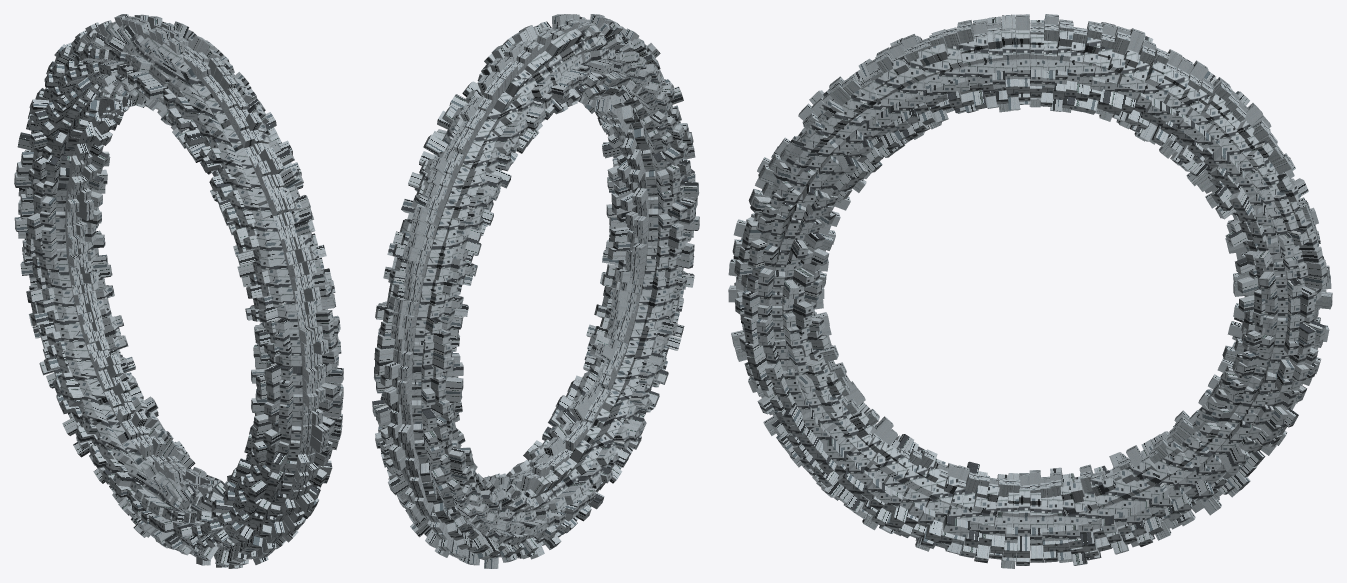
Rendered from cityring.glb.
3 views of the same model, side by side, from view 1: azimuth 30°, elevation 25°; view 2: azimuth 150°, elevation 25°; view 3: azimuth 270°, elevation 25° (orthographic). The views are drawn at different scales.
Parts seen in each view (by area): view 1: Torus001; view 2: Torus001; view 3: Torus001.
Boxes of the visible parts, <box> form: Torus001: <box>14,14,343,568</box>; Torus001: <box>372,14,699,568</box>; Torus001: <box>728,14,1332,568</box>.
Size of the model in its own units: 0.3523 by 2.12 by 2.12.
Materials: 1 (1 with a texture image).
